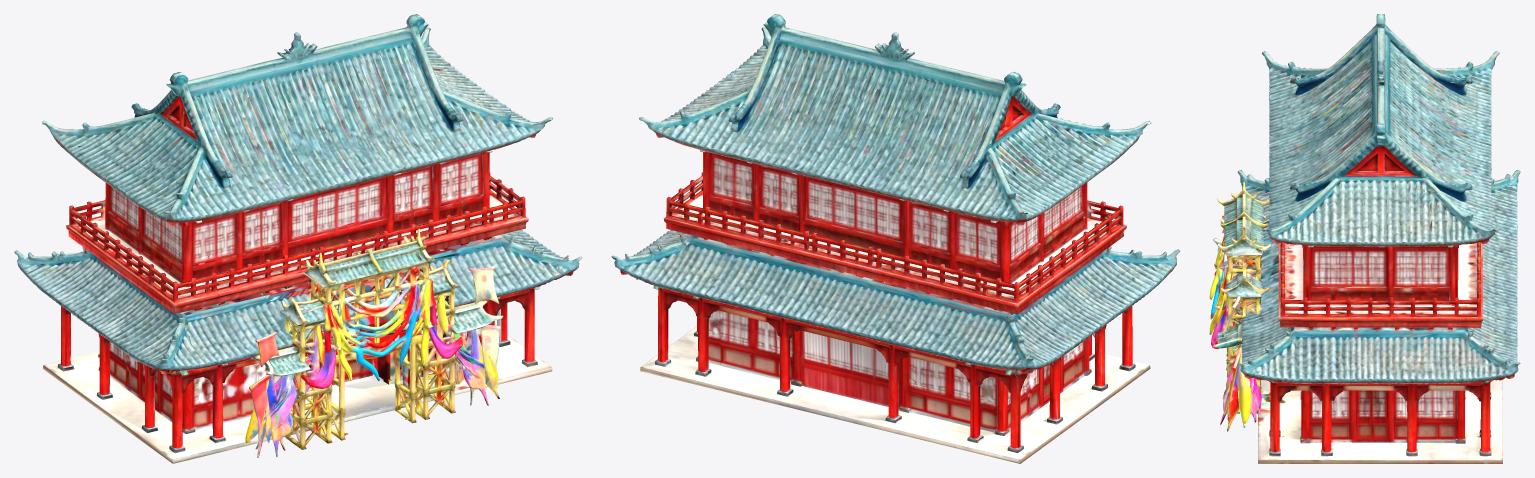
Rendered from qm_tavern.glb.
The picture shows the model from 3 angles, left to right: view 1: azimuth 30°, elevation 25°; view 2: azimuth 150°, elevation 25°; view 3: azimuth 270°, elevation 25°; orthographic projection. The views are drawn at different scales.
Visible parts, largest first — view 1: qm_tavern; view 2: qm_tavern; view 3: qm_tavern.
Part boxes in pixels (x1=…): qm_tavern: x1=14, y1=14, x2=582, y2=463; qm_tavern: x1=611, y1=14, x2=1180, y2=463; qm_tavern: x1=1209, y1=14, x2=1520, y2=463.
Bounding box in the file's own units: 14.32 × 11 × 9.7.
1 material, 1 textured.
